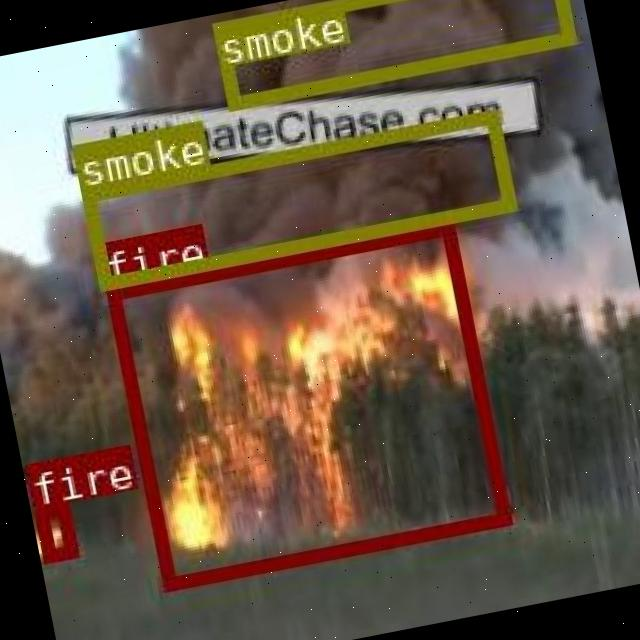fire: (104, 219, 509, 590), (33, 503, 75, 559)
smoke: (79, 106, 514, 288), (210, 0, 574, 108)
